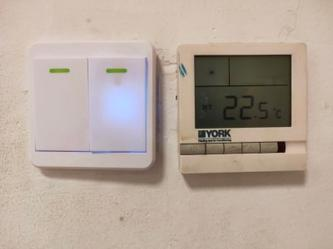switch: (83, 52, 151, 158), (31, 54, 95, 155)
